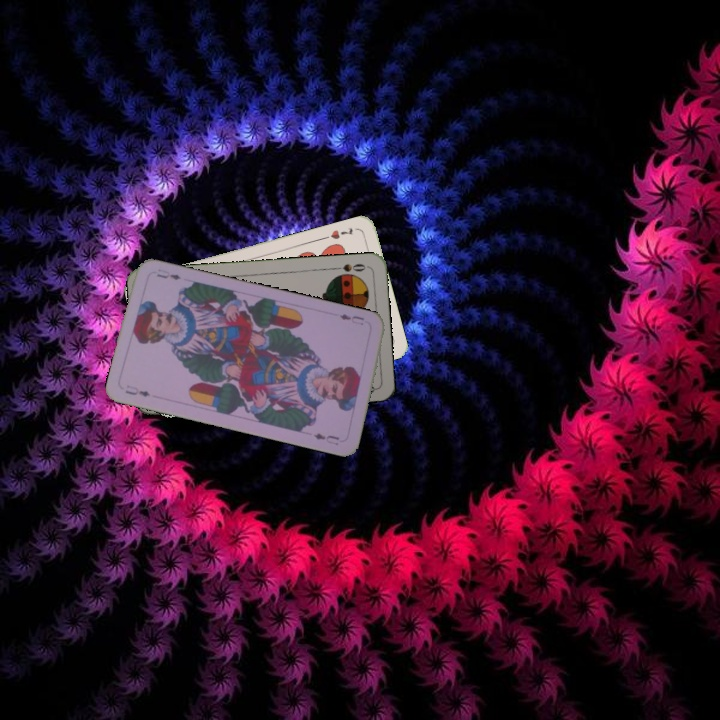EU: (335, 309, 367, 328), (121, 381, 152, 399)
H7: (327, 223, 356, 242)
SO: (330, 260, 368, 274)
